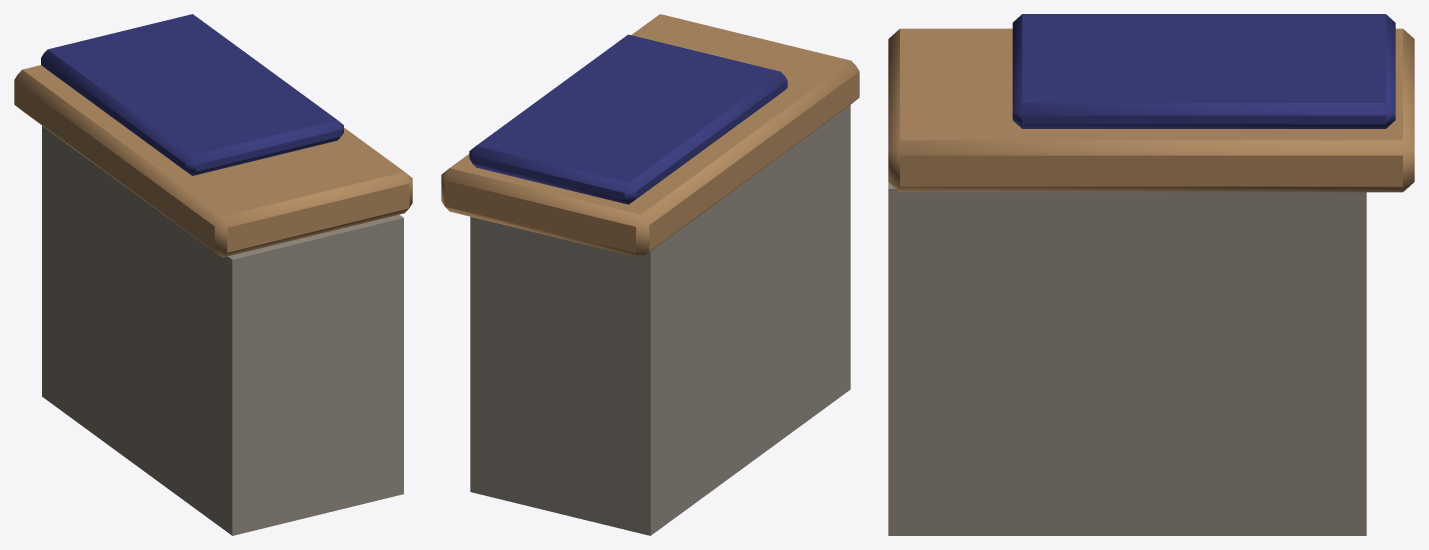
The model's file is perch_seat.glb.
3 renders of one model, left to right at view 1: azimuth 30°, elevation 25°; view 2: azimuth 150°, elevation 25°; view 3: azimuth 270°, elevation 25°, orthographic. The views are drawn at different scales.
Visible parts, largest first — view 1: body; view 2: body; view 3: body.
Boxes of the visible parts, x1,y1,x2,y2 form: body: (14, 14, 412, 535); body: (441, 14, 859, 535); body: (888, 14, 1414, 535).
Bounding box in the file's own units: 0.3 × 0.49 × 0.55.
